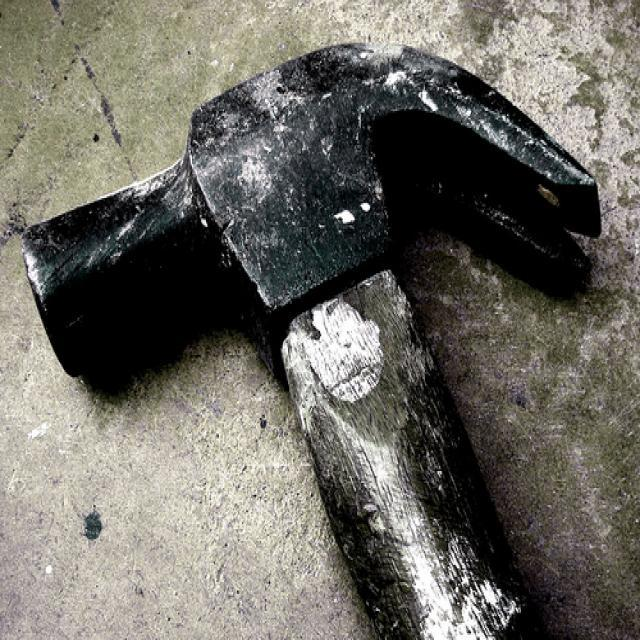hammer: (12, 19, 614, 640)
